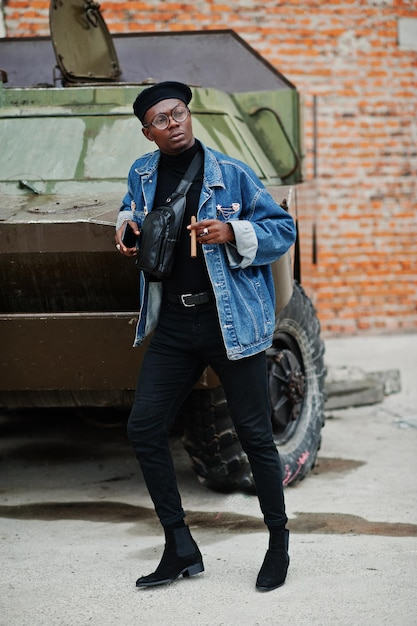cigarette: (188, 214, 199, 257)
